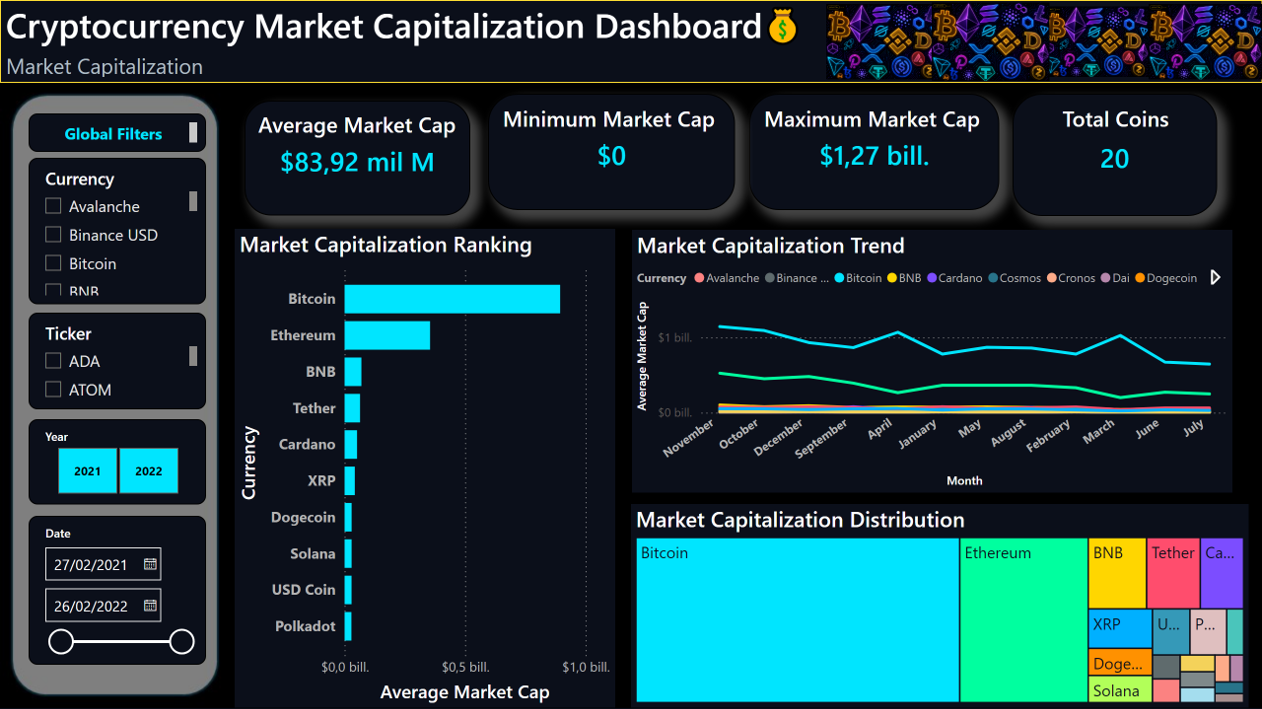

This screenshot's page, from the dashboard's own definition file:
{"tool":"powerbi","page":{"name":"MARKET CAPITALIZATION ","canvas":[1280,720],"ordinal":2},"visuals":[{"type":"card","title":"Average Market Cap","fields":{"Values":["crypto_history.Average Market Cap"]},"box":[247.7,102.2,229,116.6],"z":0},{"type":"card","title":"Maximum Market Cap","fields":{"Values":["crypto_history.Maximum Market Cap"]},"box":[760.3,95,253.4,118.1],"z":1000},{"type":"card","title":"Minimum Market Cap","fields":{"Values":["crypto_history.Minimum Market Cap"]},"box":[495.4,95,250.6,118.1],"z":2000},{"type":"card","title":"Total Coins","fields":{"Values":["crypto_history.Total Coins"]},"box":[1026.7,95,207.4,123.8],"z":3000},{"type":"barChart","title":"Market Capitalization Ranking","fields":{"Category":["crypto_history.Currency"],"Y":["crypto_history.Average Market Cap"]},"box":[237.6,231.8,385.9,485.3],"z":4000},{"type":"lineChart","title":"Market Capitalization Trend","fields":{"Y":["crypto_history.Average Market Cap"],"Series":["crypto_history.Currency"],"Category":["Calendar.Month Name"]},"box":[641,232.7,608.8,266.3],"z":5000},{"type":"treemap","title":"Market Capitalization Distribution","fields":{"Group":["crypto_history.Currency"],"Values":["crypto_history.Average Market Cap"]},"box":[639.5,510.7,626.3,206.3],"z":6000},{"type":"slicer","fields":{"Values":["crypto_history.Currency"]},"box":[28.8,159.8,180,148.3],"z":7000},{"type":"slicer","fields":{"Values":["Calendar.Year"]},"box":[28.8,424.8,180,86.4],"z":8000},{"type":"slicer","fields":{"Values":["crypto_history.Date"]},"box":[28.8,522.7,180,151.2],"z":9000},{"type":"slicer","fields":{"Values":["crypto_history.Ticker"]},"box":[28.8,316.8,180,97.9],"z":10000},{"type":"textbox","title":"Cryptocurrency Market Capitalization Dashboard💰","box":[0,0,1280.6,83.9],"z":11000},{"type":"textbox","box":[28.8,115.2,180,38.9],"z":12000},{"type":"image","box":[1165.2,0,114.8,84.2],"z":13000},{"type":"image","box":[837.5,0,114.8,84.2],"z":14000},{"type":"image","box":[1058,0,107.2,84.2],"z":15000},{"type":"image","box":[944.7,0,119.4,84.2],"z":16000}]}

Visuals, with their boxes in screenshot pixels (x1, y1, x2, y2), scaled from the page's 1280x720 canvas onto the 1262x709 screenshot:
"Average Market Cap" card: l=244, t=101, r=470, b=215
"Maximum Market Cap" card: l=750, t=94, r=999, b=210
"Minimum Market Cap" card: l=488, t=94, r=736, b=210
"Total Coins" card: l=1012, t=94, r=1217, b=215
"Market Capitalization Ranking" barChart: l=234, t=228, r=615, b=706
"Market Capitalization Trend" lineChart: l=632, t=229, r=1232, b=491
"Market Capitalization Distribution" treemap: l=631, t=503, r=1248, b=706
slicer - crypto_history.Currency: l=28, t=157, r=206, b=303
slicer - Calendar.Year: l=28, t=418, r=206, b=503
slicer - crypto_history.Date: l=28, t=515, r=206, b=664
slicer - crypto_history.Ticker: l=28, t=312, r=206, b=408
"Cryptocurrency Market Capitalization Dashboard💰" textbox: l=0, t=0, r=1261, b=83
textbox: l=28, t=113, r=206, b=152
image: l=1149, t=0, r=1261, b=83
image: l=826, t=0, r=939, b=83
image: l=1043, t=0, r=1149, b=83
image: l=931, t=0, r=1049, b=83
